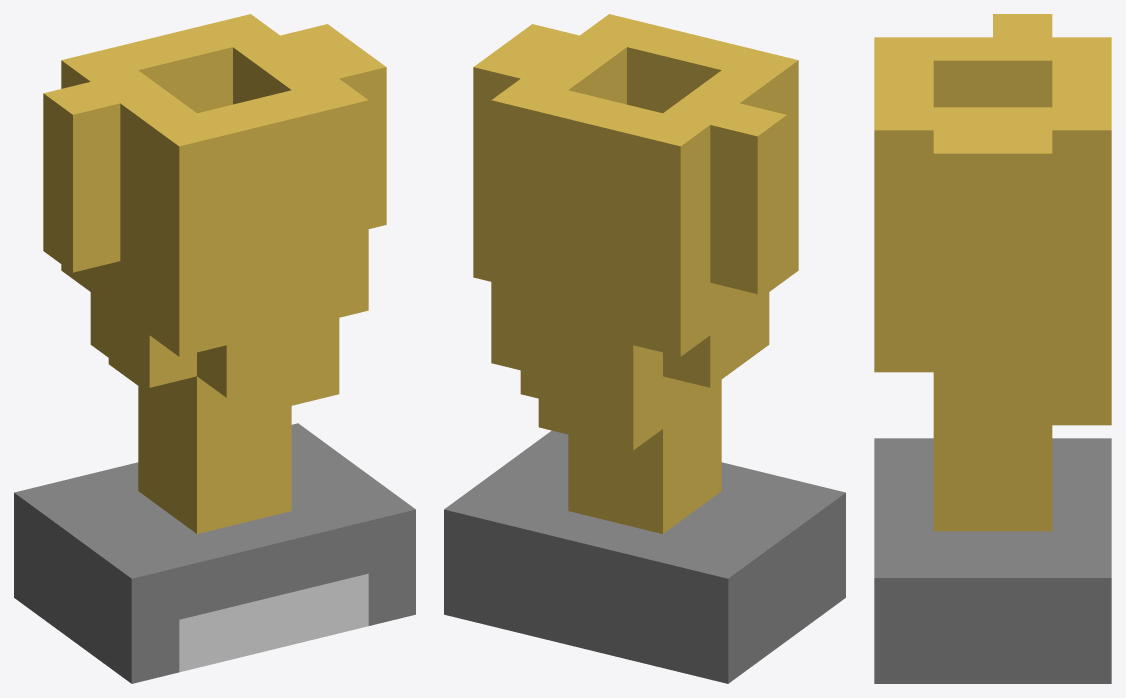
The model's file is trophy-creativetrio_fLy8KmmD1t-blocky.glb.
The picture shows the model from 3 angles, left to right: view 1: azimuth 30°, elevation 25°; view 2: azimuth 150°, elevation 25°; view 3: azimuth 270°, elevation 25°; orthographic projection.
Parts seen in each view (by area): view 1: Trophy; view 2: Trophy; view 3: Trophy.
Boxes of the visible parts, <box> form: Trophy: <box>14,14,415,683</box>; Trophy: <box>444,14,845,683</box>; Trophy: <box>874,14,1111,683</box>.
Bounding box in the file's own units: 0.1652 × 0.2923 × 0.1187.
Materials: 1 (1 with a texture image).
